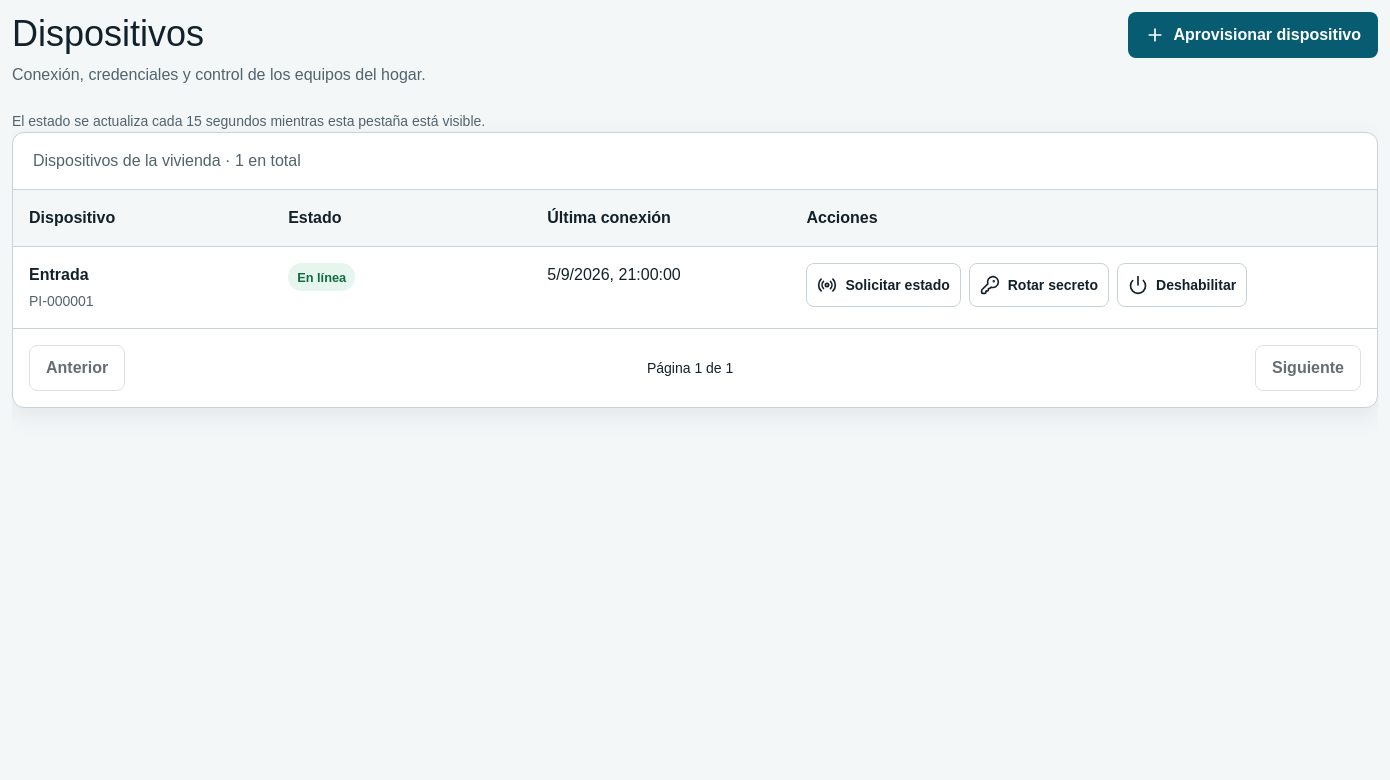
it: Dispositivos › formats device and command timestamps in the selected home timezone
Expected: the text "Entrada" is shown, top-left (29, 266), bottom-right (89, 283)
Expected: the text "5/9/2026, 21:00:00" is shown, top-left (547, 266), bottom-right (681, 283)
Step 1. Click the button with aria-label "Solicitar estado de Entrada" → [884, 285], box top-left (806, 263), bottom-right (961, 307)
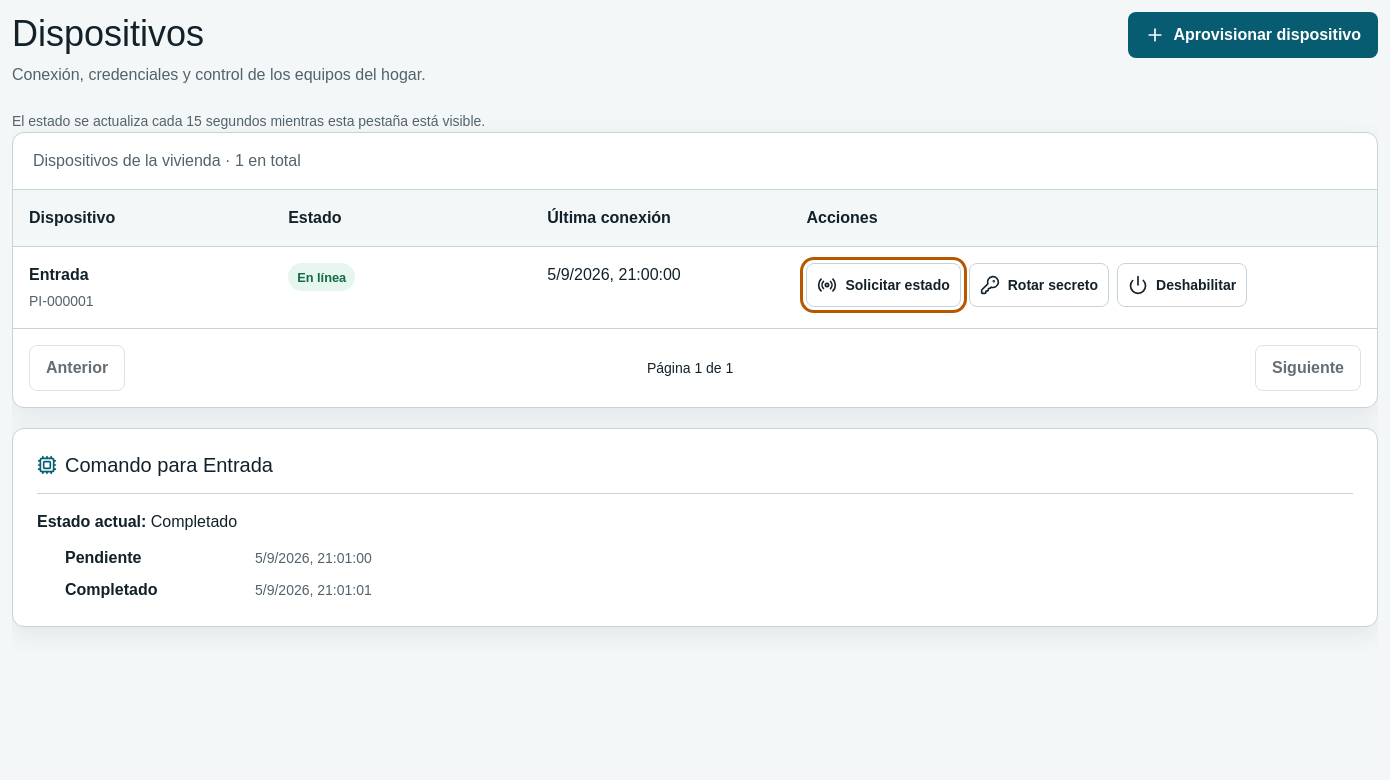
Expected: the text "5/9/2026, 21:01:01" is shown, top-left (255, 582), bottom-right (372, 598)
